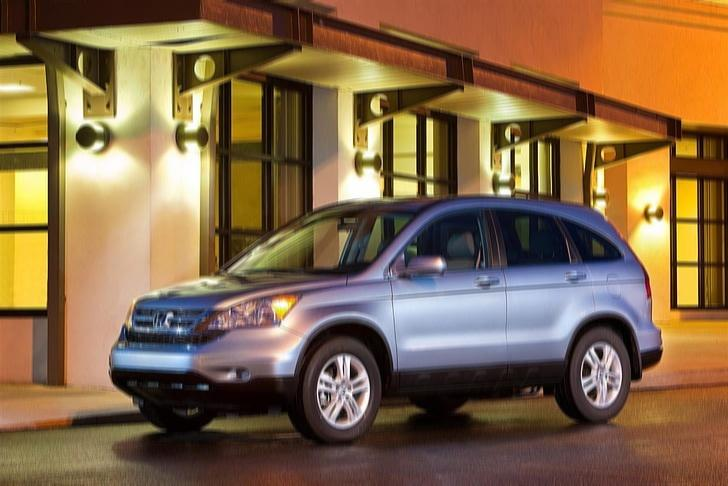Car hood: (133, 268, 349, 312)
Fender - -F-L-: (280, 262, 403, 403)
Fender - -R-L-: (581, 249, 656, 326)
Front bumper: (100, 325, 307, 412)
Headlight - -L-: (190, 282, 308, 341)
Headlight - -R-: (120, 287, 152, 337)
Passenger-s door - -F-L-: (392, 197, 511, 382)
Passenger-s door - -R-L-: (495, 196, 599, 377)
Rear bumper: (630, 294, 674, 393)
Rear light - -L-: (617, 228, 659, 301)
Side bumper - -L-: (375, 352, 578, 406)
Side mirror - -L-: (398, 248, 450, 287)
